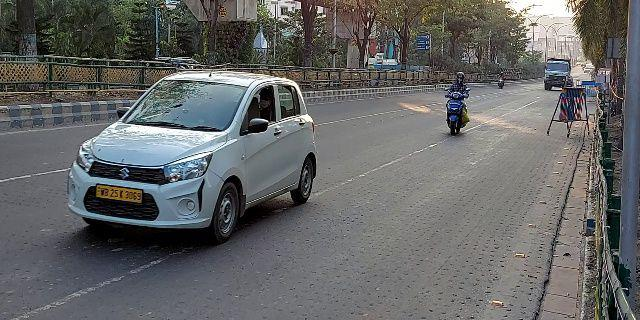Car: (68, 63, 317, 245)
Motorbike: (444, 69, 472, 140)
Truck: (541, 55, 571, 94)
